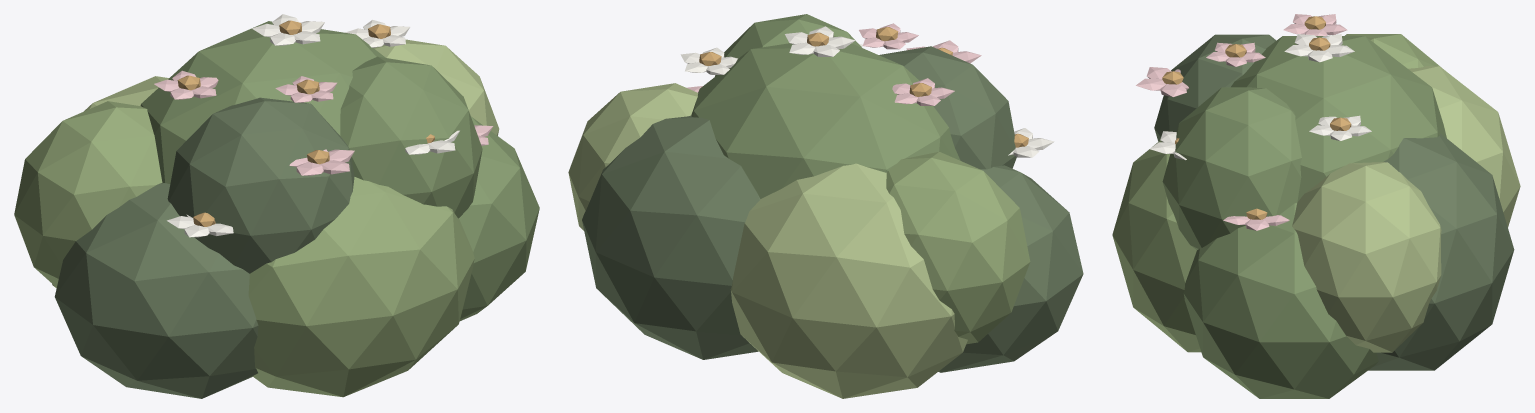
Rendered from bush-flower.glb.
The picture shows the model from 3 angles, left to right: view 1: azimuth 30°, elevation 25°; view 2: azimuth 150°, elevation 25°; view 3: azimuth 270°, elevation 25°; orthographic projection. The views are drawn at different scales.
Parts seen in each view (by area): view 1: bush-flower; view 2: bush-flower; view 3: bush-flower.
Part boxes in pixels (x1,y1,x2,y2): bush-flower: (14,14,539,398); bush-flower: (568,14,1083,398); bush-flower: (1112,14,1520,398).
Size of the model in its own units: 2.37 by 1.64 by 1.95.
